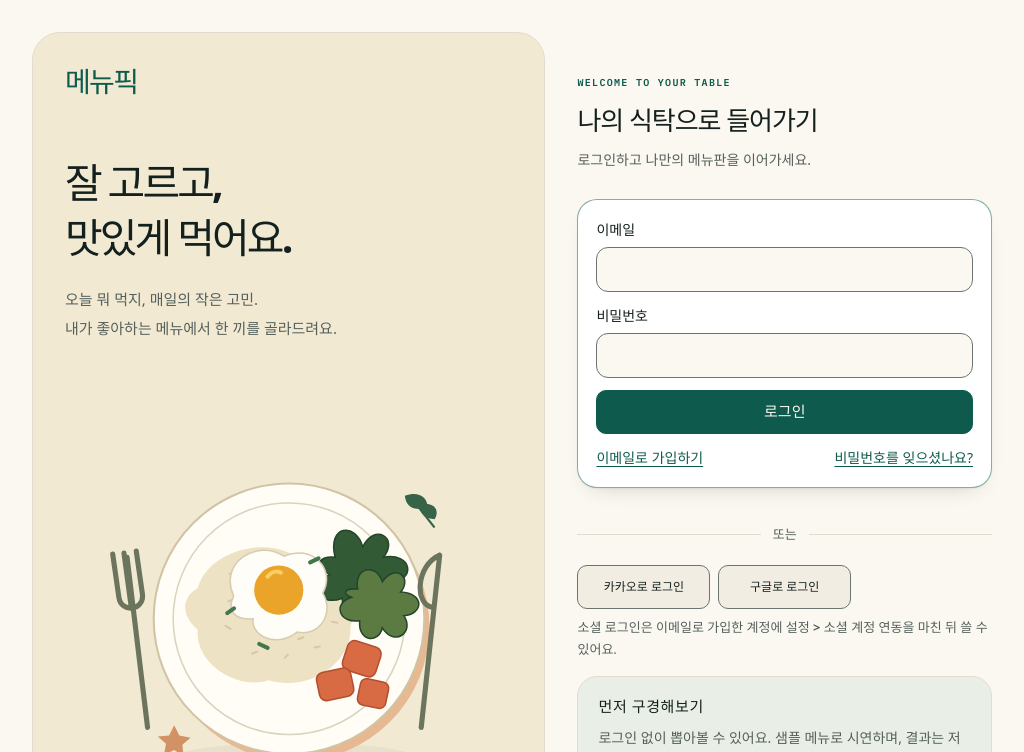
Test case: LoginPage 실패 통지 › 로그인 실패를 role=alert로 알린다
Type "a@b.com" into the field labelled "이메일" at (785, 269), box [596,247,973,292]
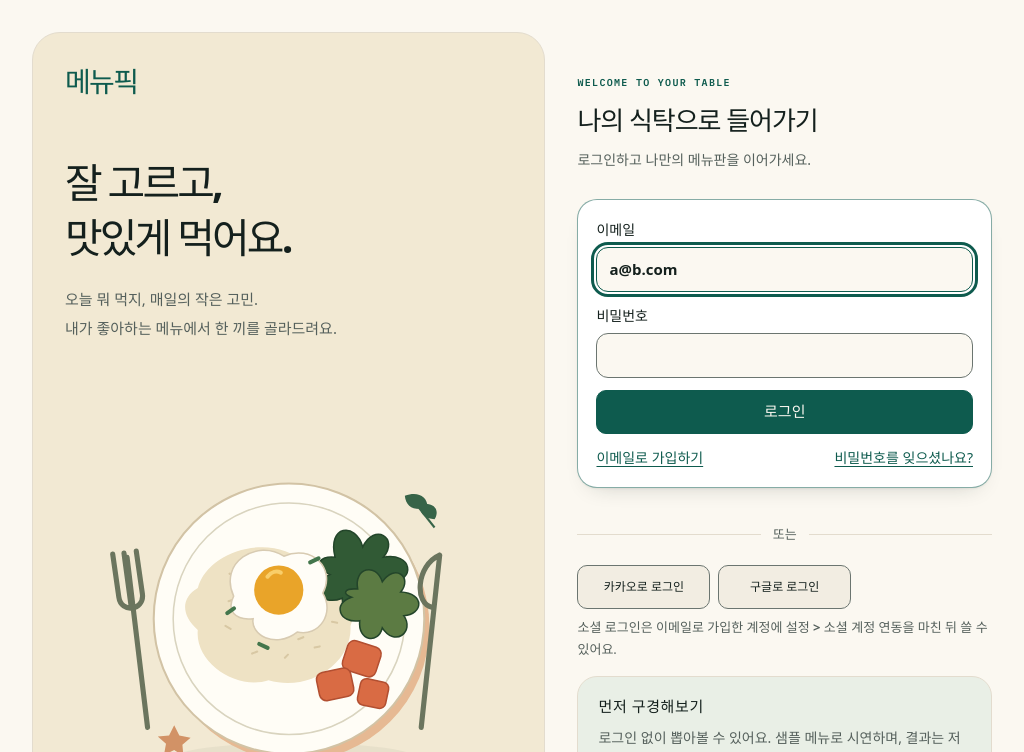
Type "wrongpassword" into the password field labelled "비밀번호" at (785, 355), box [596,333,973,378]
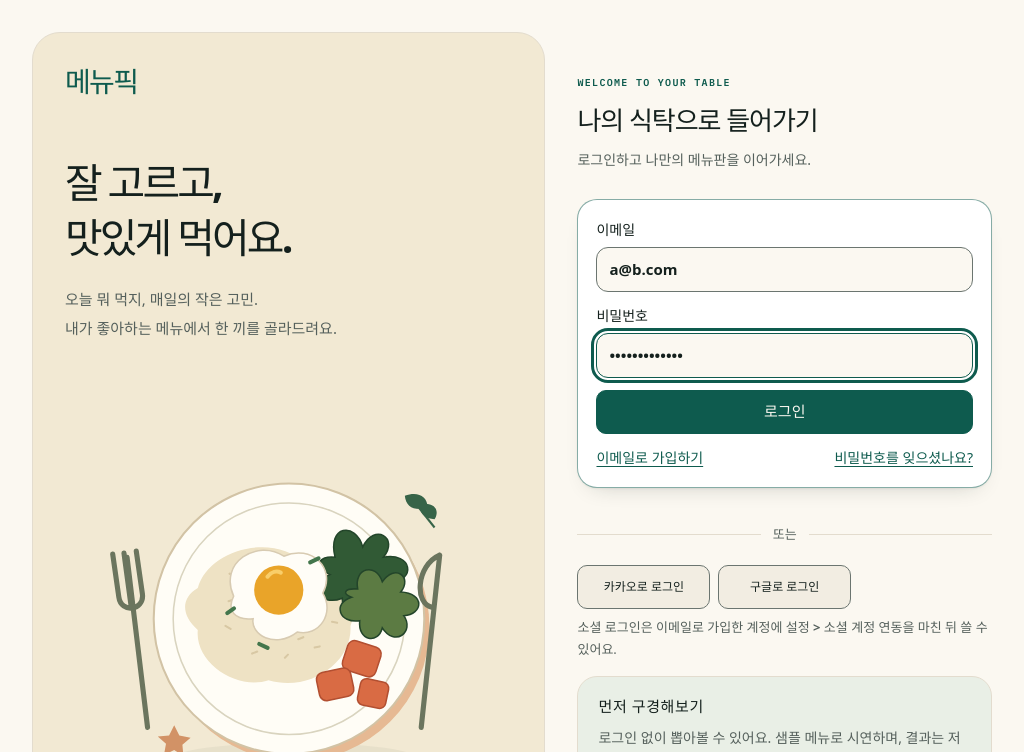
Click the button "로그인" at (785, 412), box [596,390,973,434]
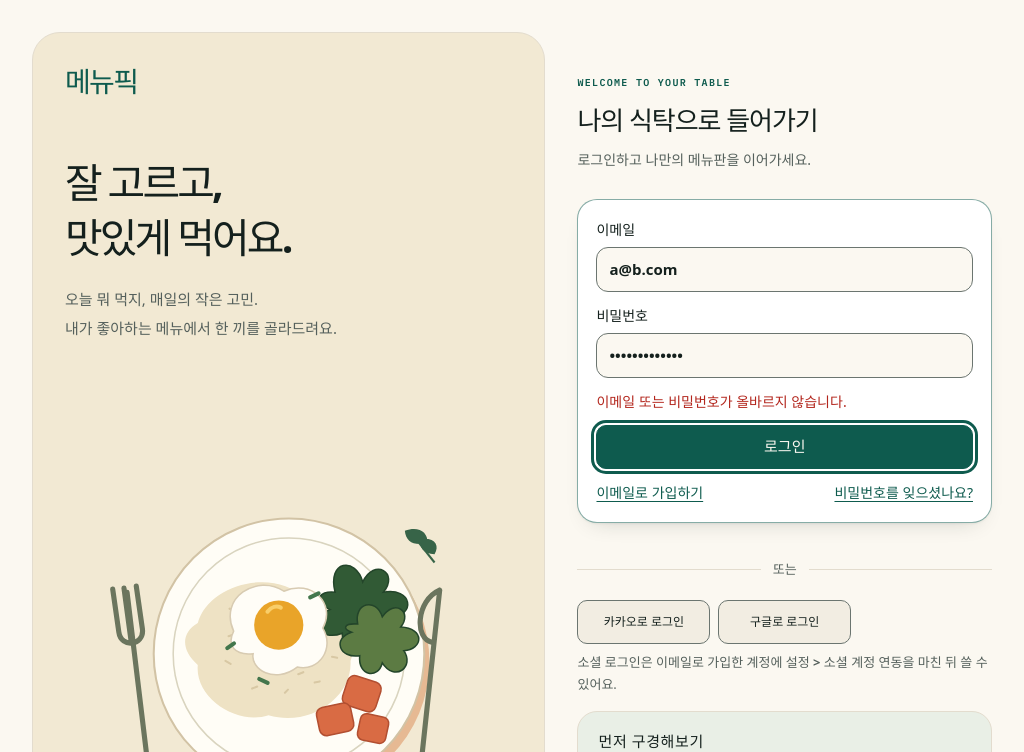
Check: the message shows "올바르지 않습니다", box [596,392,847,411]
